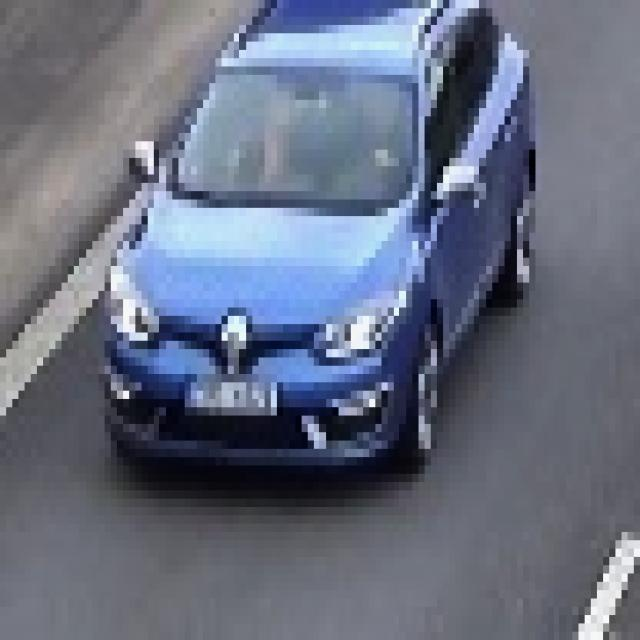blue: (104, 0, 542, 499)
